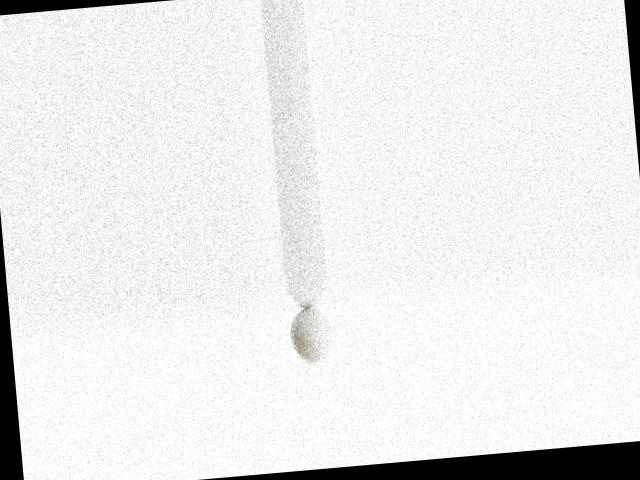egg: (288, 305, 334, 366)
